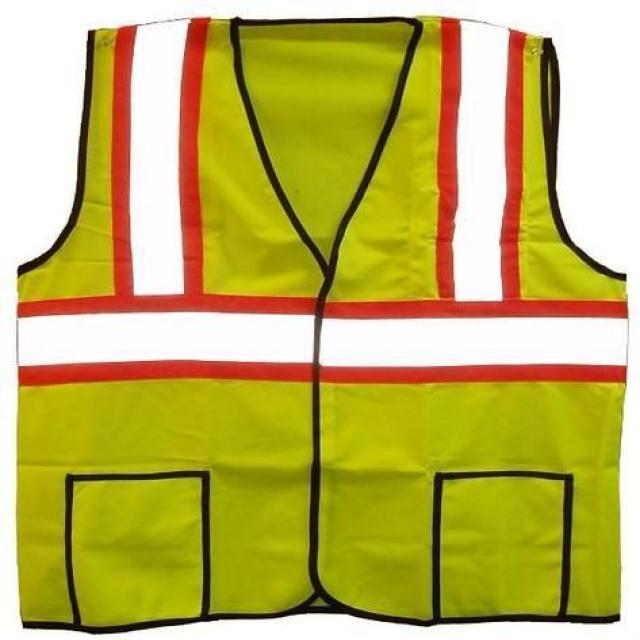Vest: (16, 8, 631, 631)
